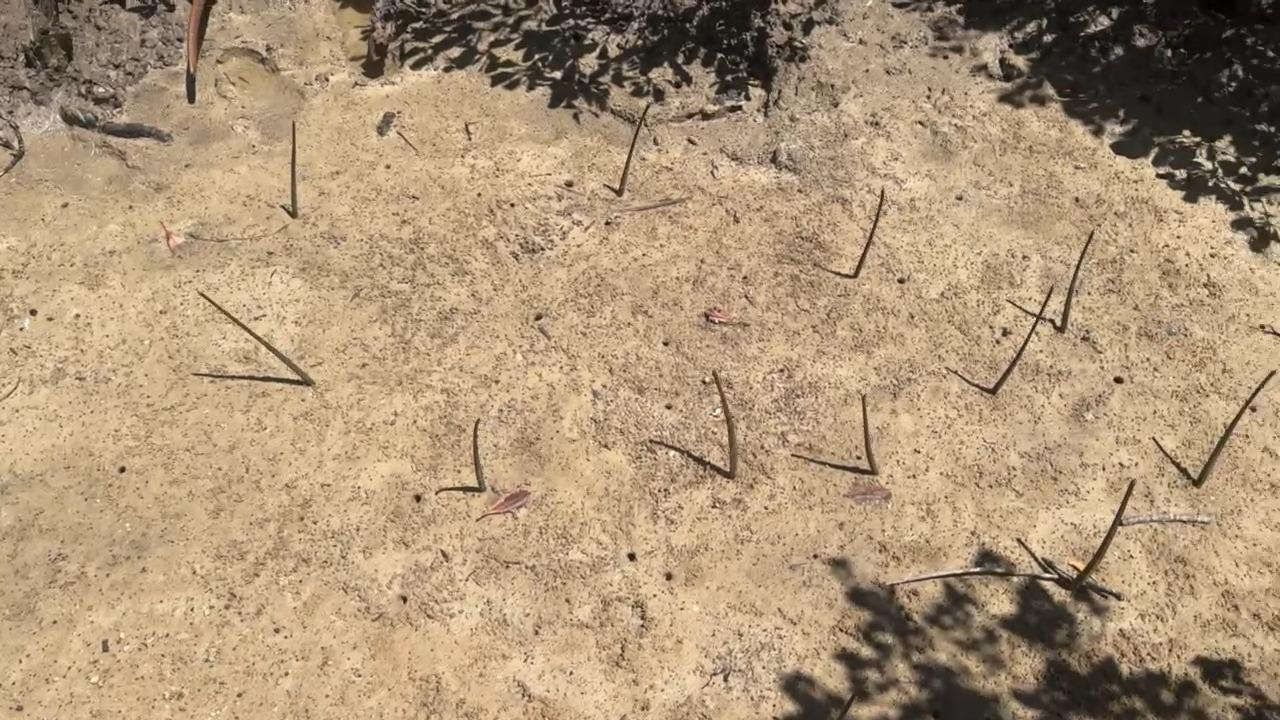Tree: (195, 292, 315, 387), (1194, 370, 1274, 488), (1073, 481, 1137, 584), (993, 288, 1054, 395), (1060, 230, 1096, 334), (713, 367, 740, 477), (618, 105, 650, 197), (854, 189, 884, 278), (862, 393, 880, 474), (472, 417, 487, 493), (291, 122, 297, 218)
